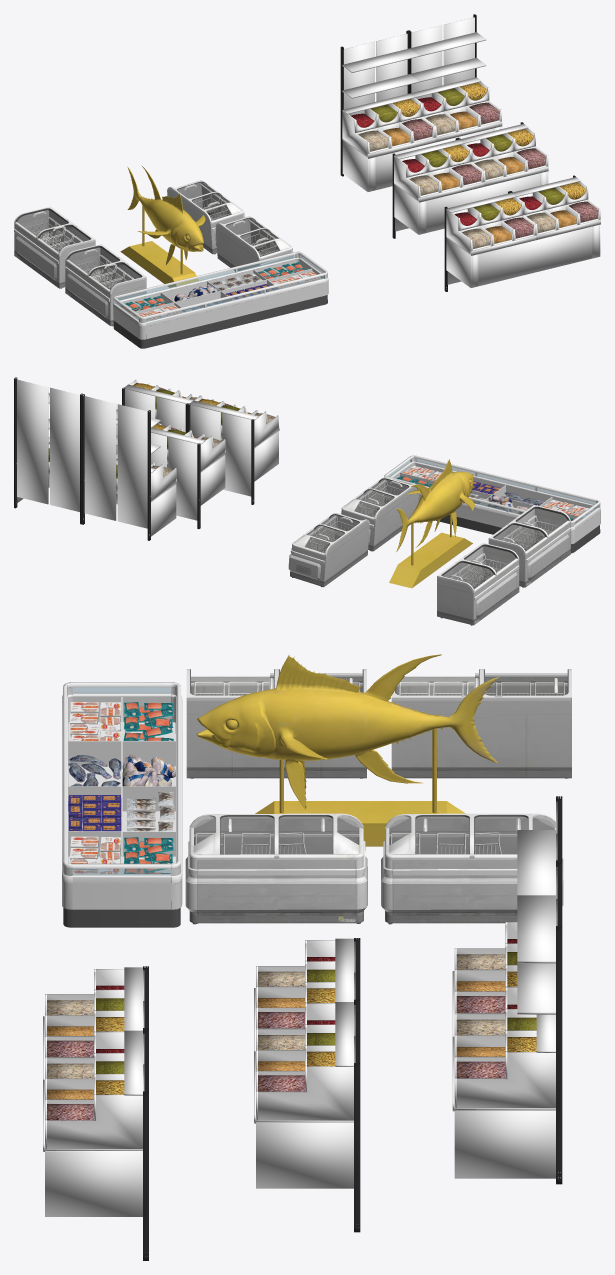
File: thuysan_L3.glb
3 views of the same model, one above another, from view 1: azimuth 30°, elevation 25°; view 2: azimuth 150°, elevation 25°; view 3: azimuth 270°, elevation 25° (orthographic). The views are drawn at different scales.
Parts seen in each view (by area): view 1: _l3_Beans booth.002, _l3_Beans booth.001, _l3_tu.001, _l3_Beans booth, _l3_Fish gold, _l3_Ice box.003, _l3_Ice box.002, _l3_Ice box.001, _l3_Ice box; view 2: _l3_Beans booth.002, _l3_Beans booth.001, _l3_tu.001, _l3_Fish gold, _l3_Ice box.002, _l3_Beans booth, _l3_Ice box, _l3_Ice box.003, _l3_Ice box.001; view 3: _l3_Beans booth.002, _l3_tu.001, _l3_Beans booth, _l3_Beans booth.001, _l3_Fish gold, _l3_Ice box.001, _l3_Ice box.002, _l3_Ice box, _l3_Ice box.003.
Part boxes in pixels (box(x1,y1,x2,y2)): _l3_Beans booth.002: box(340, 14, 502, 191); _l3_Beans booth.001: box(444, 175, 600, 291); _l3_tu.001: box(113, 251, 328, 348); _l3_Beans booth: box(392, 122, 548, 238); _l3_Fish gold: box(120, 166, 205, 287); _l3_Ice box.003: box(65, 244, 146, 326); _l3_Ice box.002: box(14, 206, 95, 288); _l3_Ice box.001: box(215, 216, 293, 270); _l3_Ice box: box(167, 180, 245, 254); _l3_Beans booth.002: box(14, 377, 176, 540); _l3_Beans booth.001: box(122, 380, 279, 504); _l3_tu.001: box(384, 455, 600, 553); _l3_Fish gold: box(389, 459, 474, 588); _l3_Ice box.002: box(437, 542, 519, 625); _l3_Beans booth: box(116, 420, 225, 528); _l3_Ice box: box(288, 513, 369, 587); _l3_Ice box.003: box(488, 505, 570, 587); _l3_Ice box.001: box(340, 477, 418, 551); _l3_Beans booth.002: box(452, 796, 562, 1184); _l3_tu.001: box(62, 682, 182, 927); _l3_Beans booth: box(254, 938, 360, 1232); _l3_Beans booth.001: box(43, 966, 148, 1260); _l3_Fish gold: box(196, 654, 499, 846); _l3_Ice box.001: box(185, 813, 367, 924); _l3_Ice box.002: box(391, 669, 571, 778); _l3_Ice box: box(381, 813, 563, 924); _l3_Ice box.003: box(186, 669, 366, 778).
Size of the model in its own units: 12.92 by 4.52 by 6.43.
Materials: 20 (15 with a texture image).
